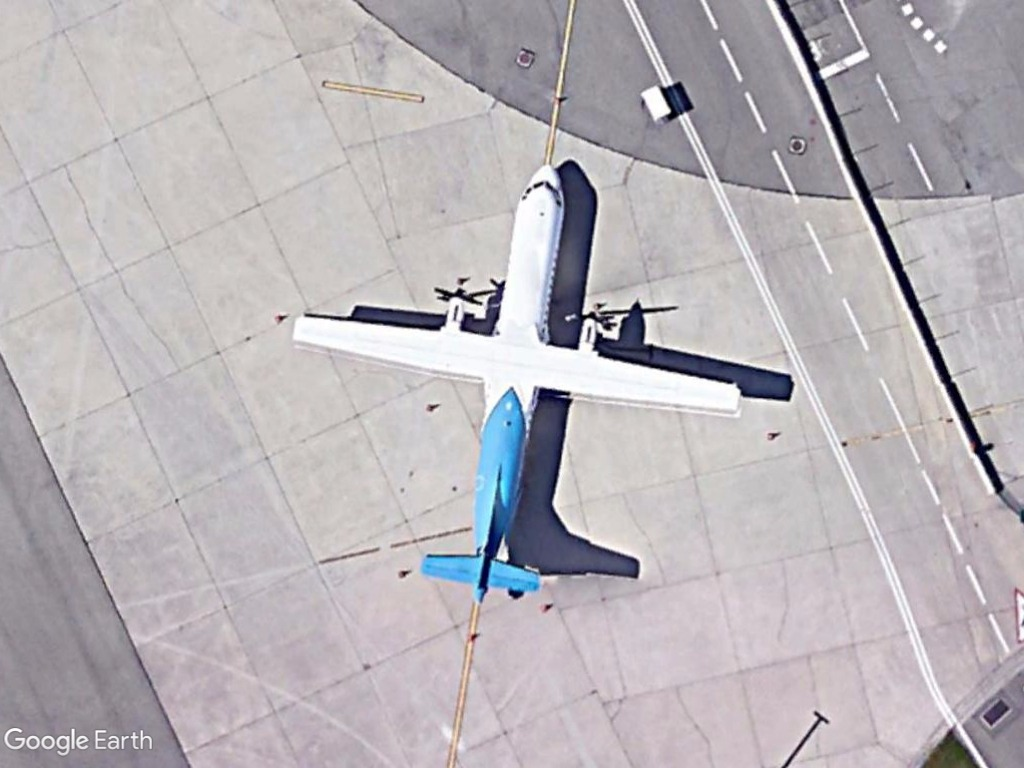propeller: (284, 151, 746, 603)
